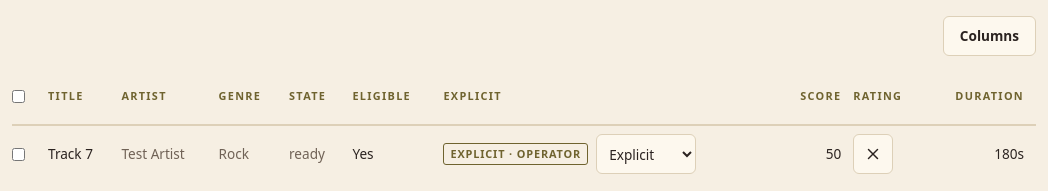
Test: Feature: Explicit classification in the Catalog page › Scenario: the operator overrides a row's classification › picking 'Unknown' PUTs { explicit: null } — clear-to-unknown (F95.3, F95.5)
The image size is (1048, 191).
Step 1. Select "Unknown" in the dropdown named "Explicit override for Track 7" → (646, 154), box [596, 134, 696, 174]
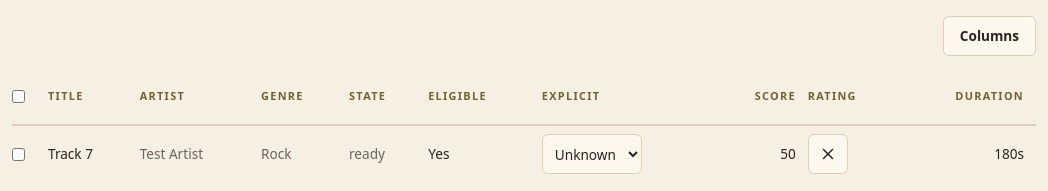
Now the text with test id "explicit-badge" is gone
